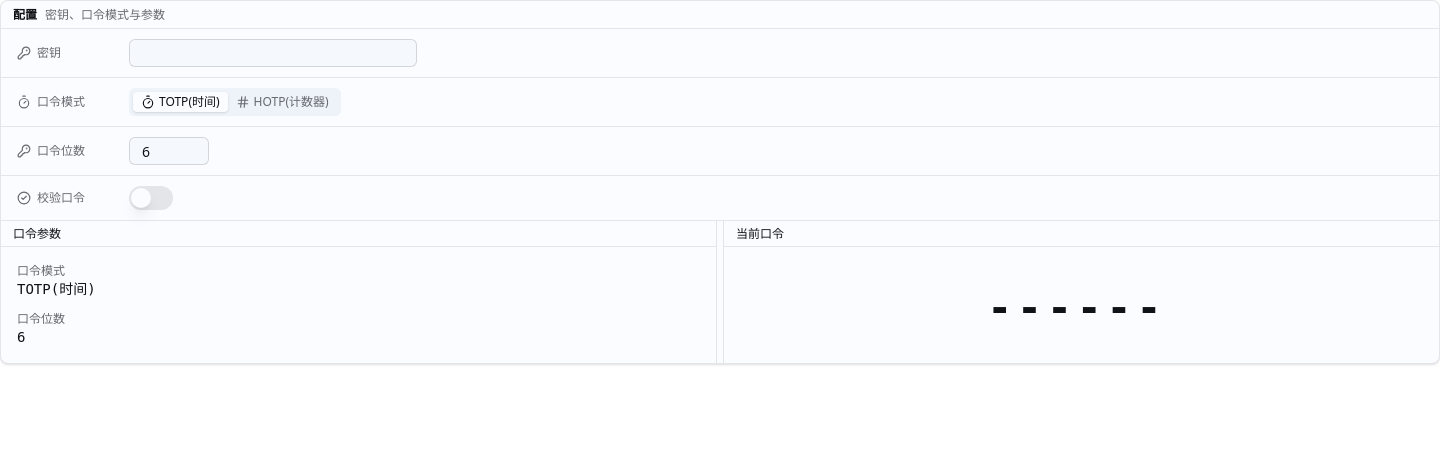
OtpGenerator › 校验模式:正确口令通过,错误口令失败
Type "GEZDGNBVGY3TQOJQGEZDGNBVGY3TQOJQ" into the field named "Base32 密钥".
click(273, 53); type("GEZDGNBVGY3TQOJQGEZDGNBVGY3TQOJQ")  # box 129,39 -> 417,67
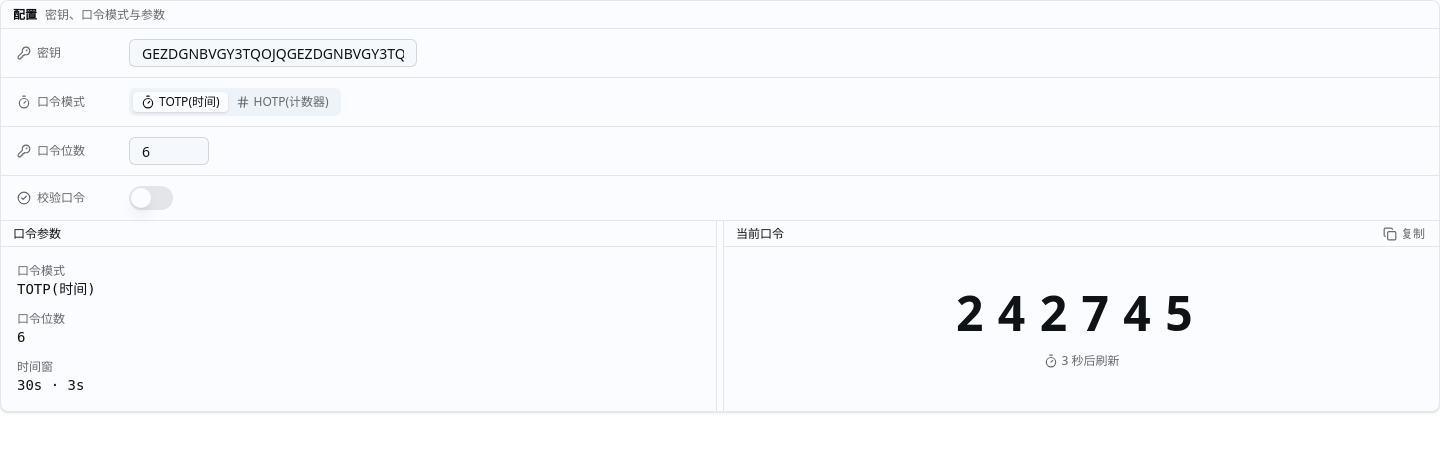
Now the text with test id "otp-code" reads "242745", box 956,280 -> 1207,345
Click the switch named "校验口令".
click(151, 198)  # box 129,186 -> 173,210
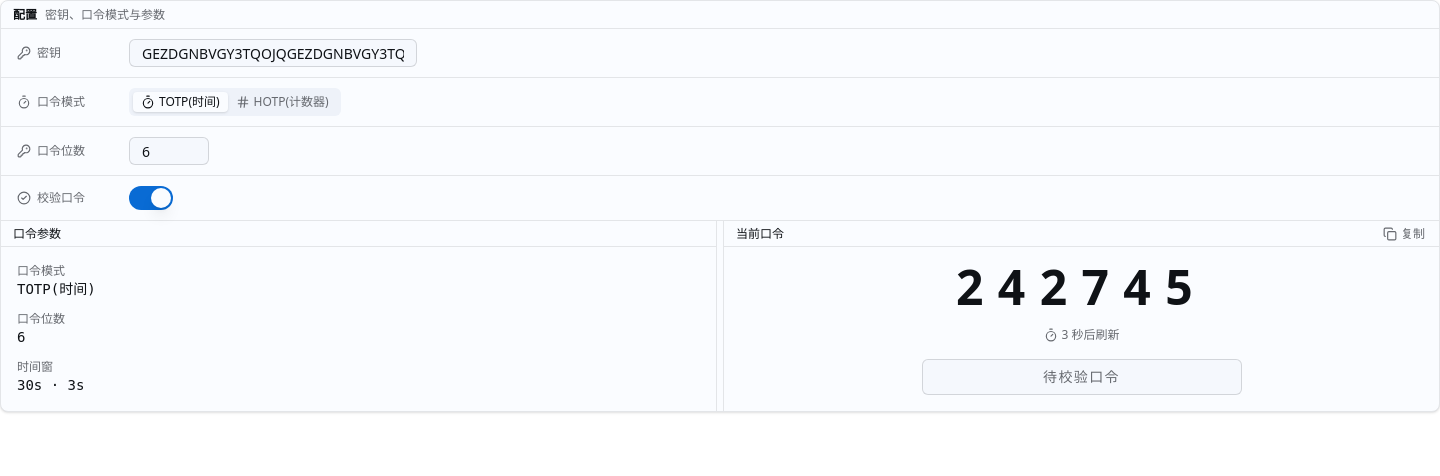
Type "000000" into the field labelled "待校验口令".
click(1082, 377); type("000000")  # box 922,359 -> 1242,395
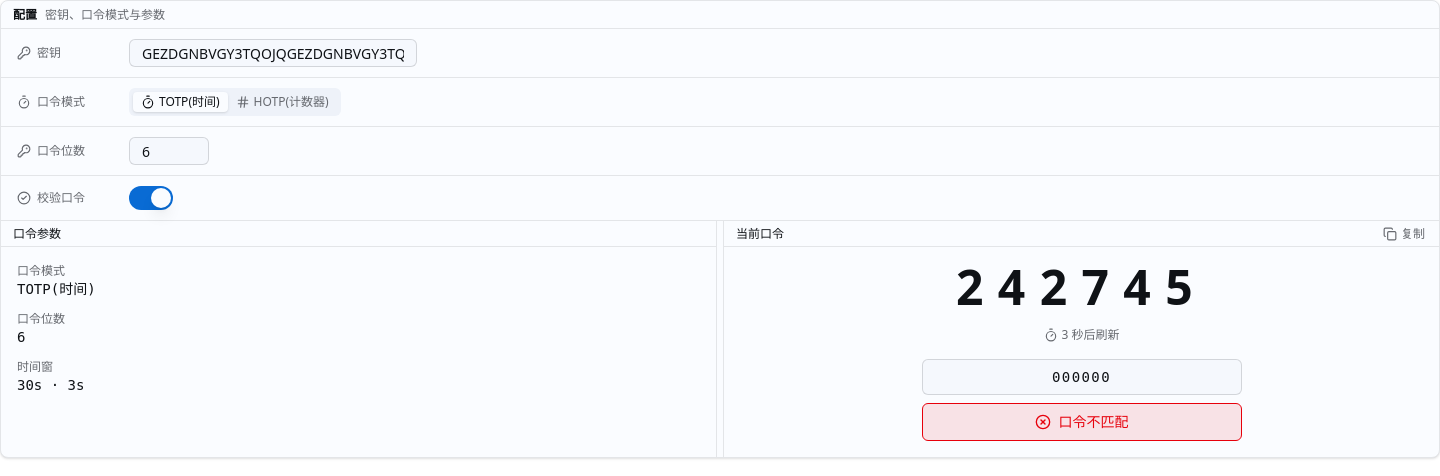
Now the element with test id "otp-verify-result" reads "口令不匹配", box 1058,412 -> 1128,431
